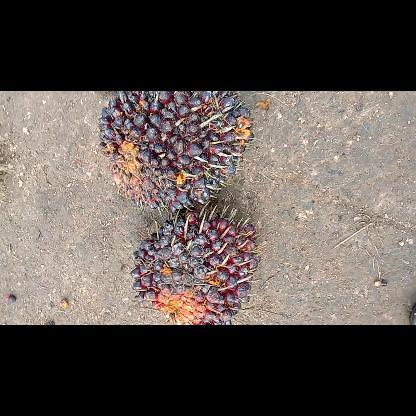Kurang masak: (95, 91, 255, 212), (130, 206, 260, 324)
